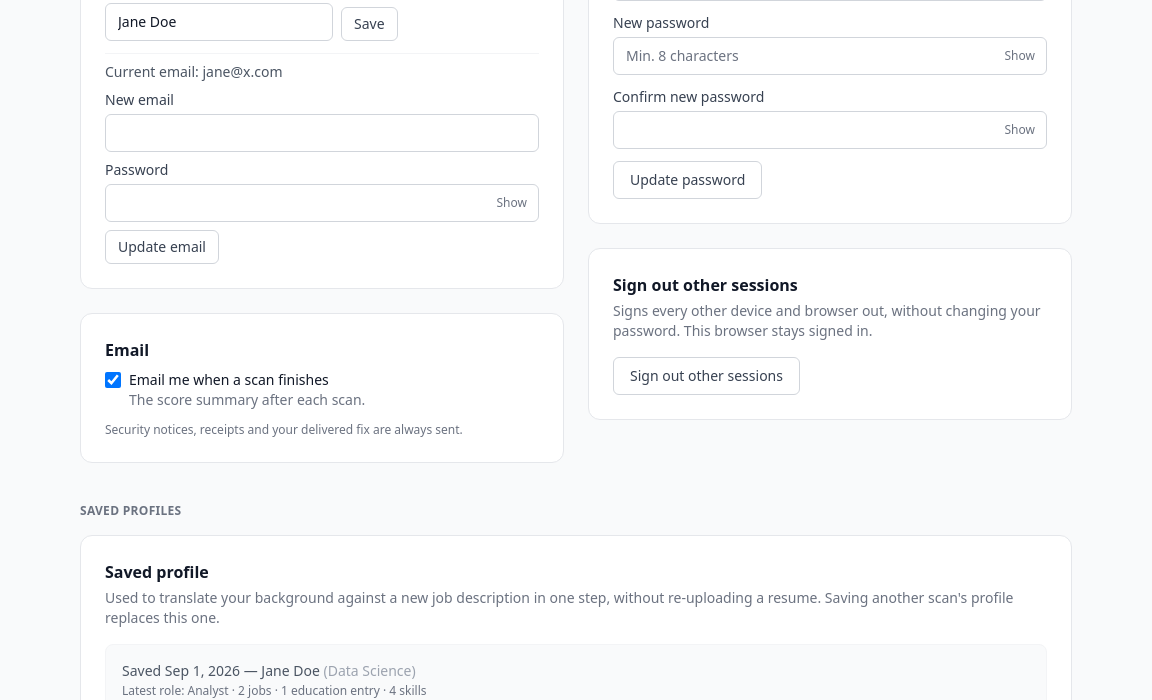
Scenario: Settings — email preference › a failed save puts the checkbox back and says so
(page scrolled)
Click the checkbox labelled "Email me when a scan finishes".
click(113, 380)  # box [105,372,121,388]
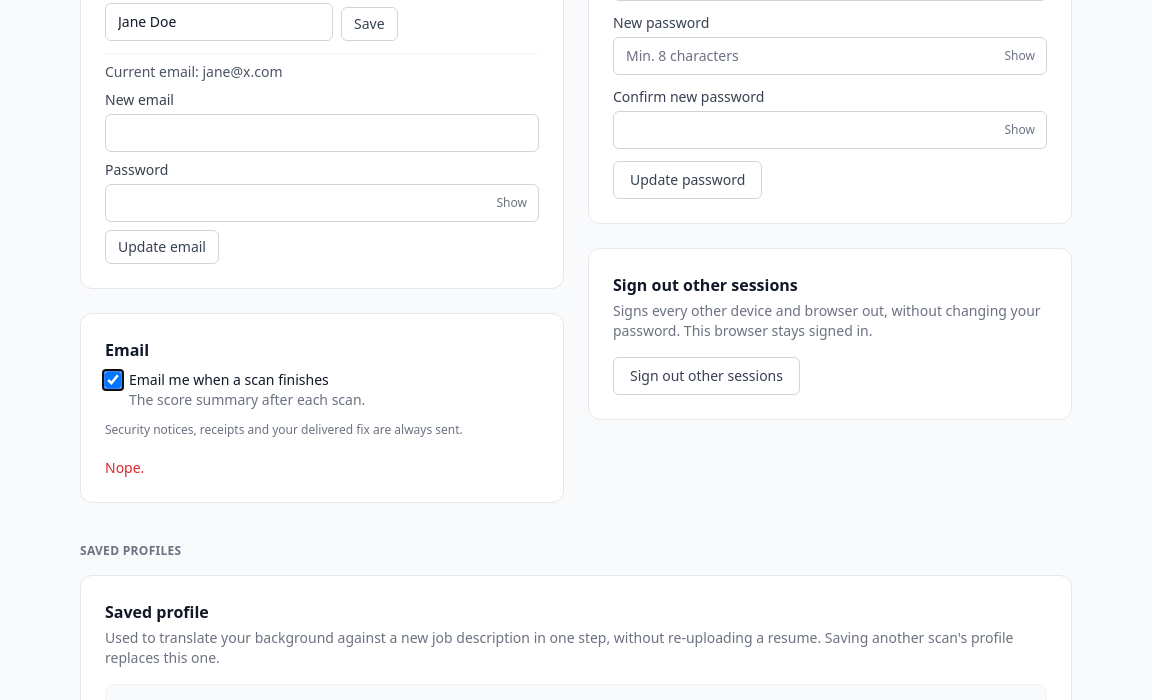
Expected: the text "Nope." is shown, [105,458,144,477]
